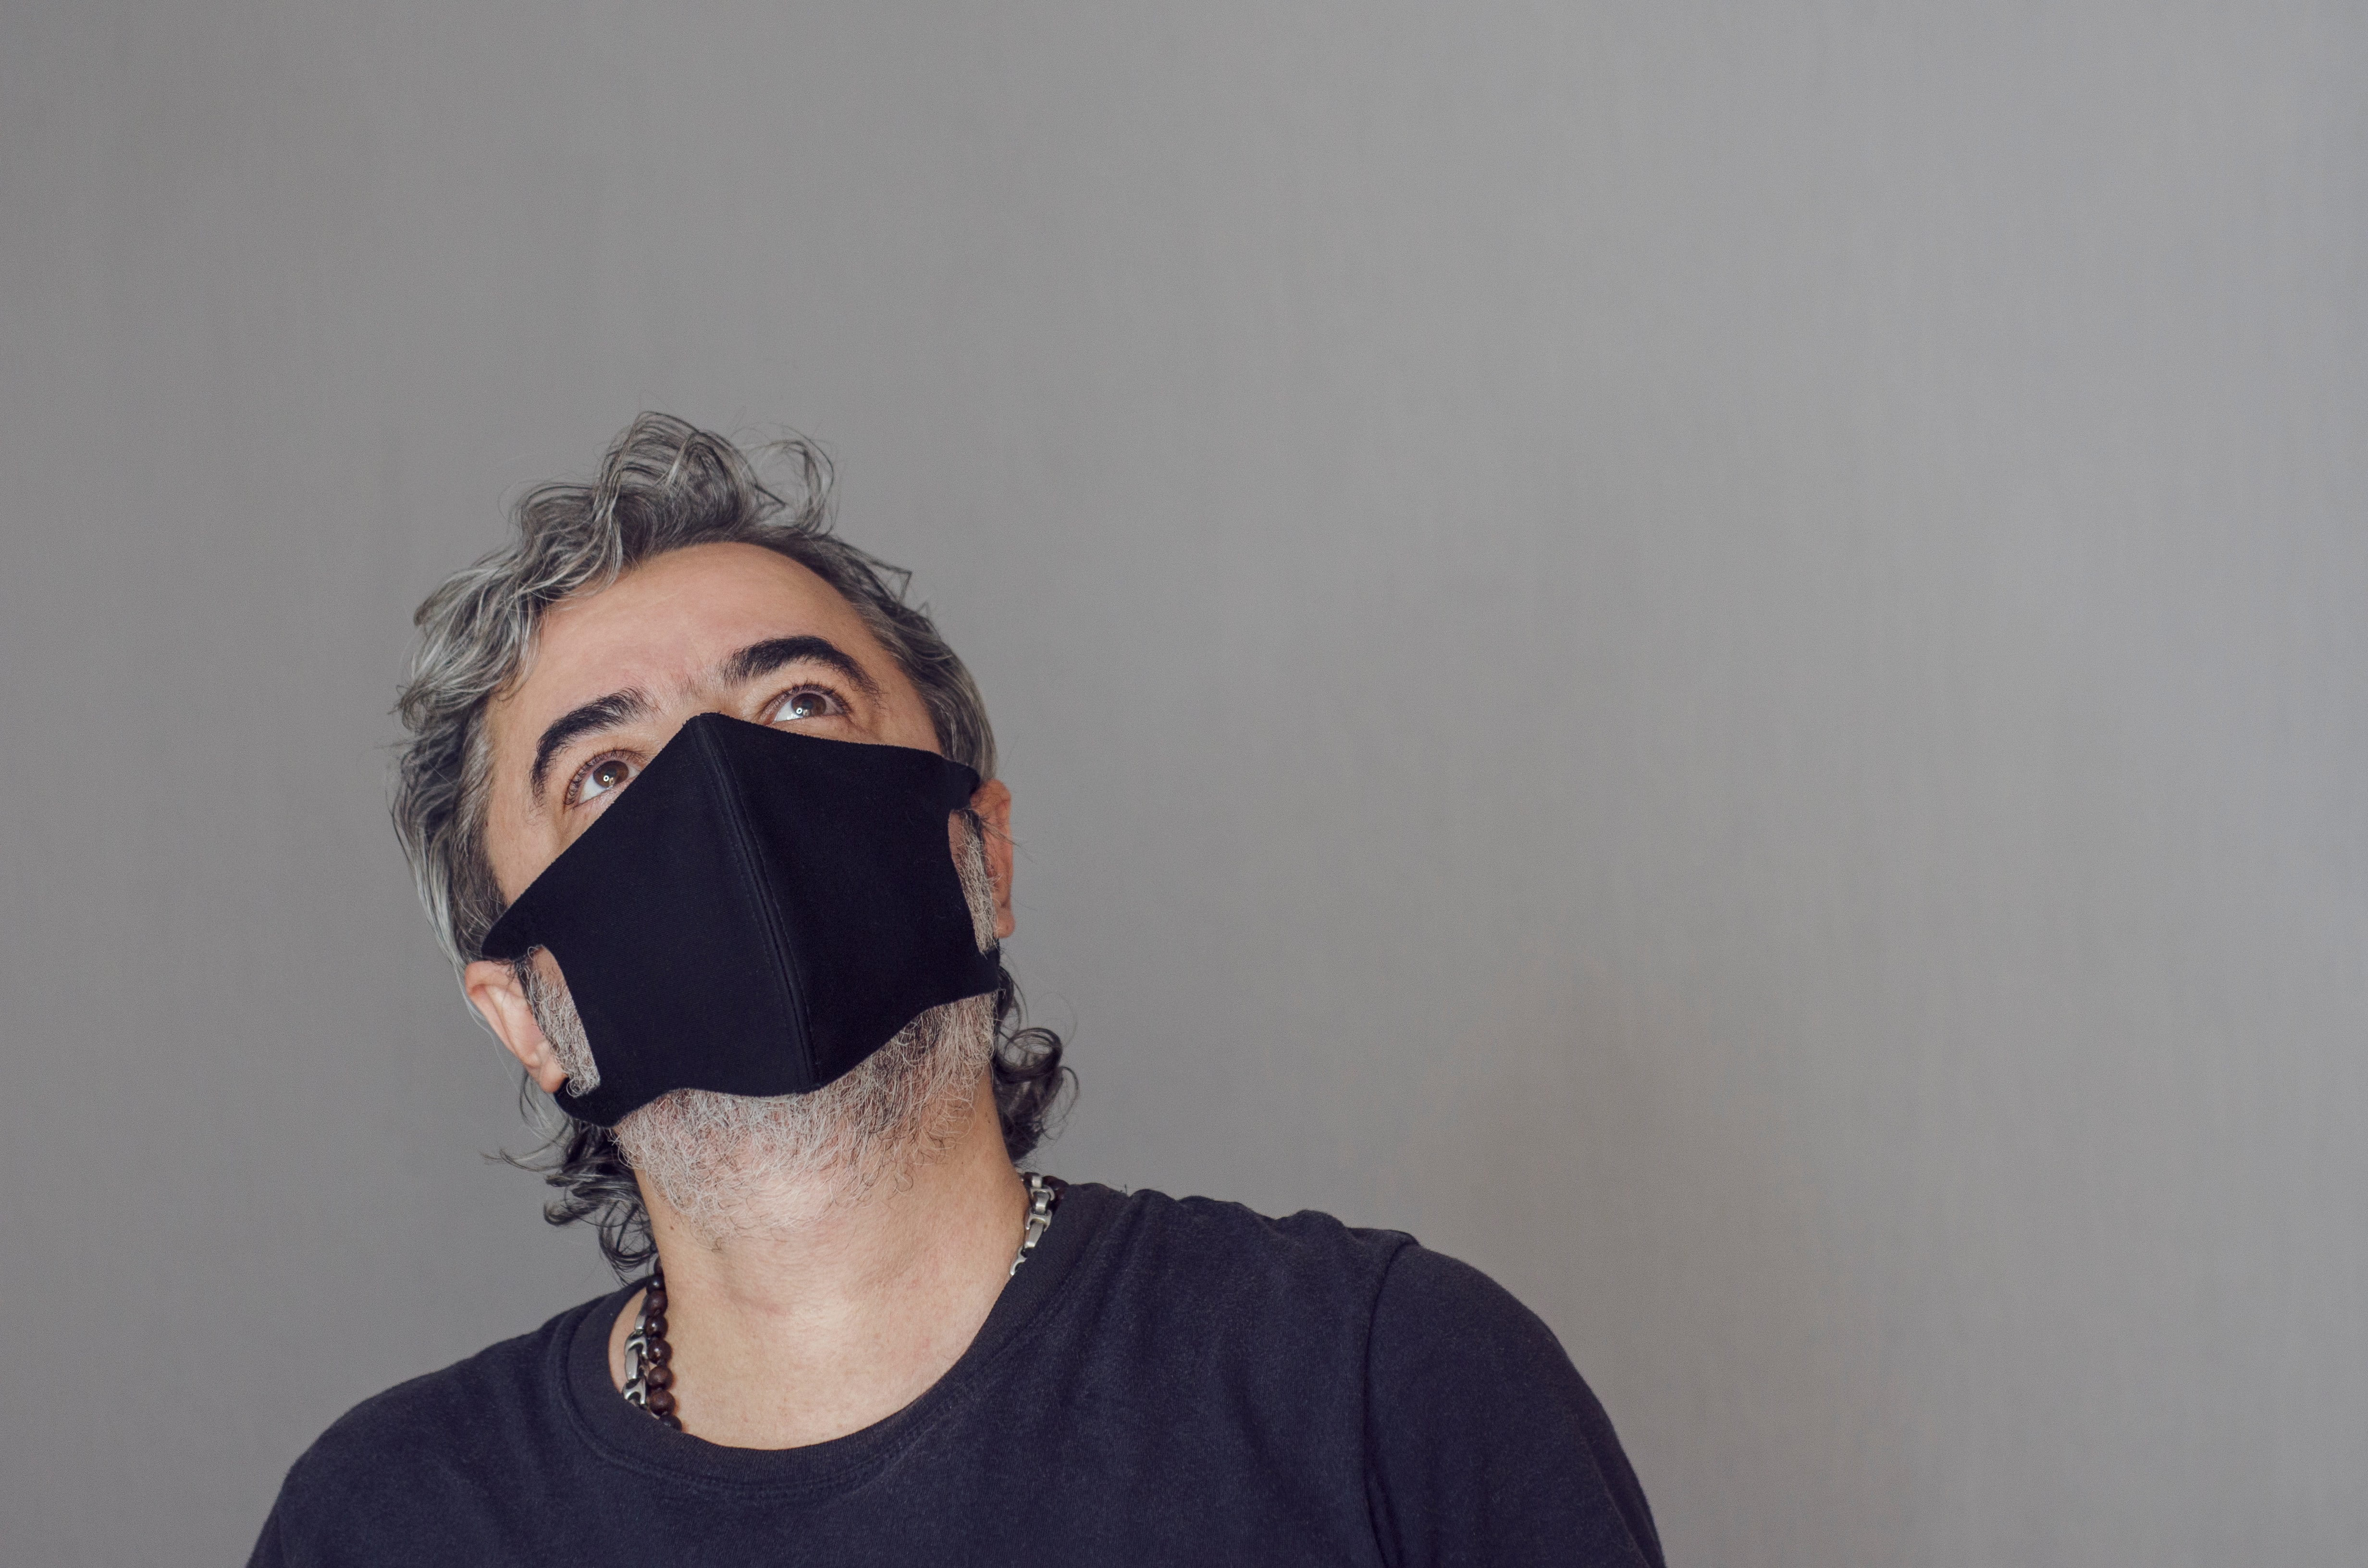mask: (436, 699, 1027, 1106)
person: (169, 494, 1677, 1568)
